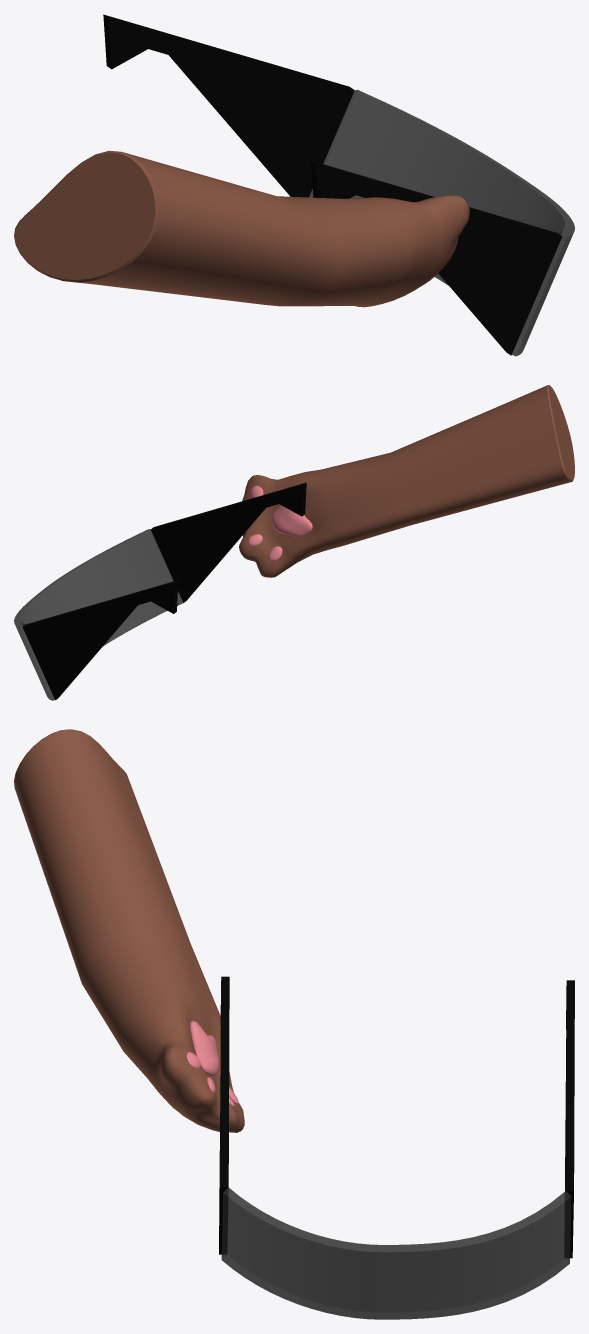
File: DoggySunglass.fbx
3 renders of one model, top to bottom at view 1: azimuth 30°, elevation 25°; view 2: azimuth 150°, elevation 25°; view 3: azimuth 270°, elevation 25°, orthographic. The views are drawn at different scales.
Visible parts, largest first — view 1: Sphere, BézierCurve.001, BézierCurve; view 2: Sphere, BézierCurve.001, BézierCurve, Sphere.001; view 3: Sphere, BézierCurve, BézierCurve.001, Sphere.001.
Boxes of the visible parts, x1=… form: Sphere: x1=14, y1=150, x2=469, y2=307; BézierCurve.001: x1=103, y1=14, x2=562, y2=355; BézierCurve: x1=309, y1=89, x2=574, y2=356; Sphere: x1=239, y1=385, x2=574, y2=577; BézierCurve.001: x1=22, y1=482, x2=306, y2=700; BézierCurve: x1=14, y1=529, x2=183, y2=700; Sphere.001: x1=248, y1=485, x2=312, y2=560; Sphere: x1=14, y1=729, x2=244, y2=1132; BézierCurve: x1=221, y1=1187, x2=571, y2=1319; BézierCurve.001: x1=219, y1=976, x2=574, y2=1258; Sphere.001: x1=186, y1=1021, x2=238, y2=1106.
Size of the model in its own units: 4620 by 2815 by 3954.
